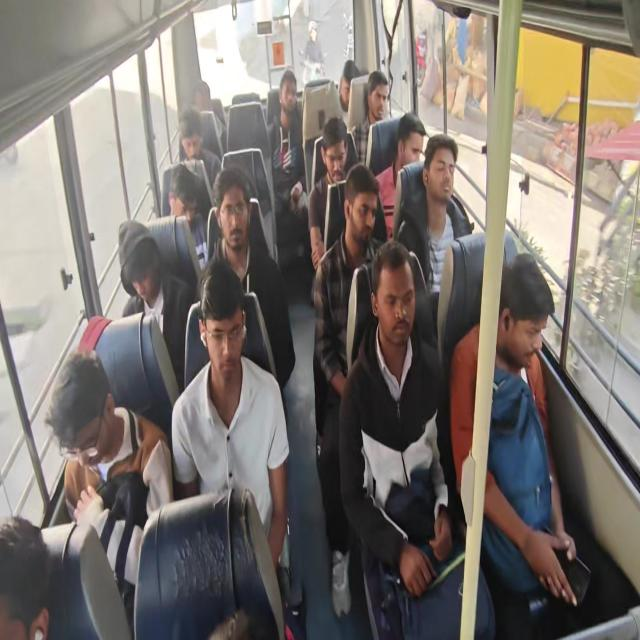person: (42, 352, 126, 464), (487, 252, 555, 367), (1, 499, 56, 639), (192, 265, 250, 395), (104, 202, 166, 302), (372, 240, 418, 349), (206, 174, 260, 240), (341, 154, 377, 248), (423, 128, 460, 215), (159, 159, 201, 223), (319, 112, 352, 186), (392, 112, 427, 164), (176, 112, 210, 159), (328, 56, 360, 105), (264, 71, 304, 110), (366, 64, 390, 122), (185, 72, 223, 108)
